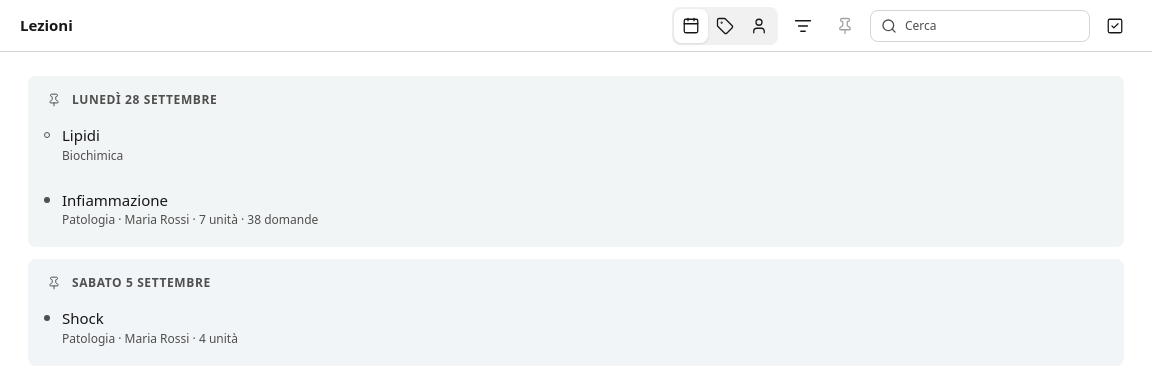
Scenario: pagina Lezioni › per materia e per docente: il sottotitolo cambia; il gruppo non ha più Recall né Studio (si seleziona)
Click the button named "Per materia" at (725, 26), box [708, 8, 742, 42]
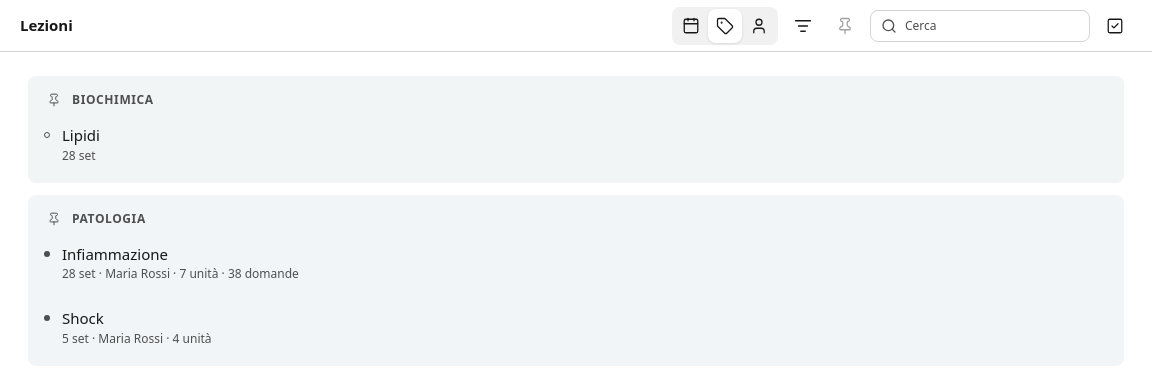
Check: the text with test id "lesson-subtitle" shows "28 set · Maria Rossi · 7 unità", box [62, 265, 299, 282]
Click the button named "Per docente" at (759, 26), box [742, 8, 776, 42]
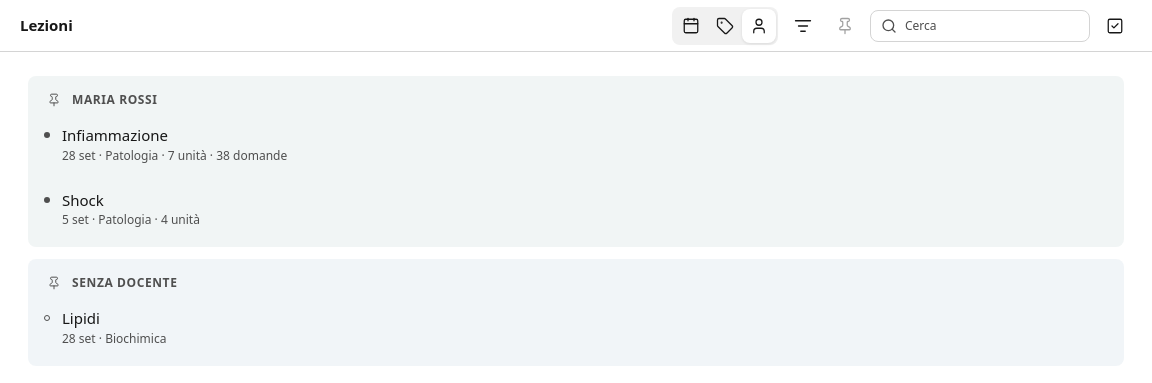
Check: the text with test id "lesson-subtitle" reads "5 set · Patologia · 4 unità", box [62, 211, 200, 228]
